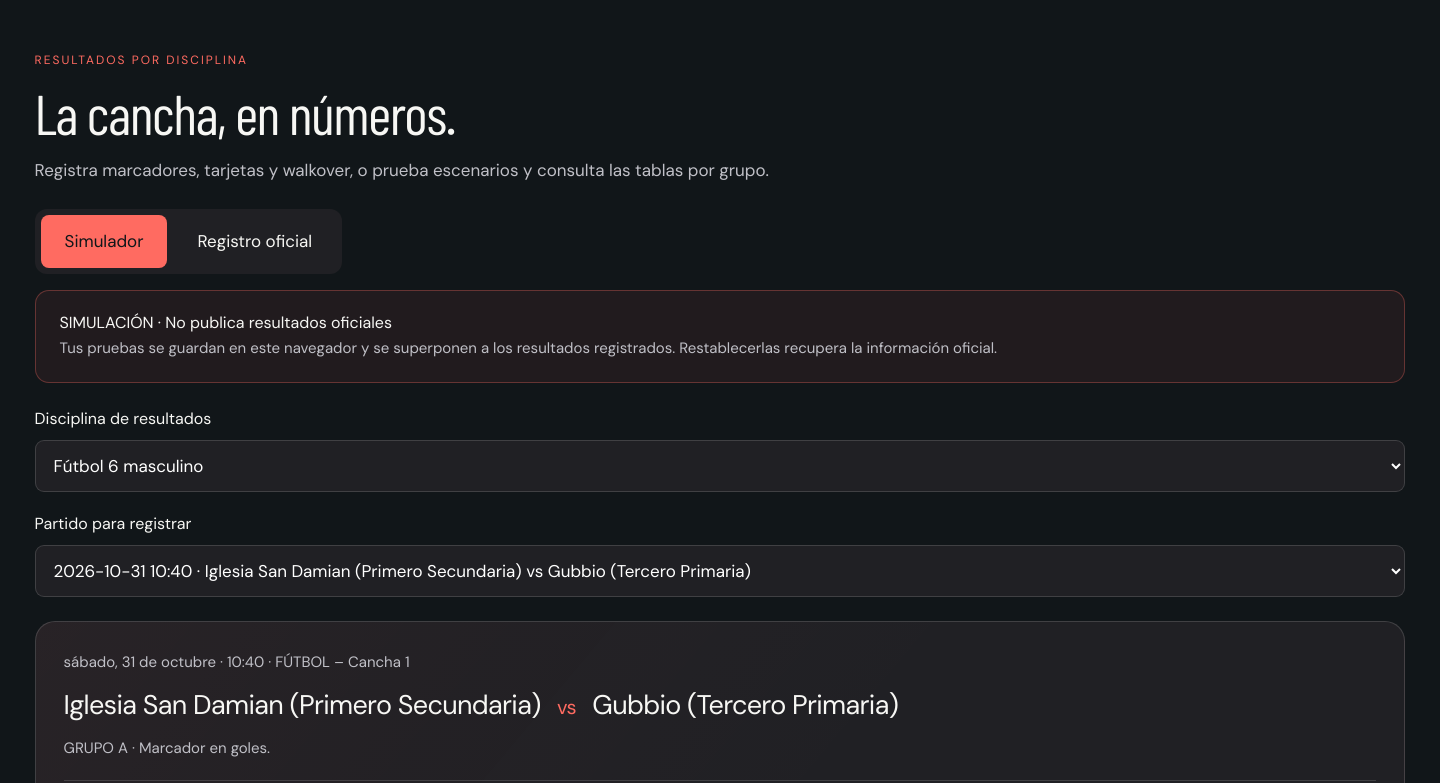
Scenario: un error de SQLite no se anuncia como resultado guardado
What coordinates should you click on to do the following:
click the button "Registro oficial"
I would click on:
 (255, 242)
Its box is top-left (174, 215), bottom-right (336, 268).
(page scrolled)
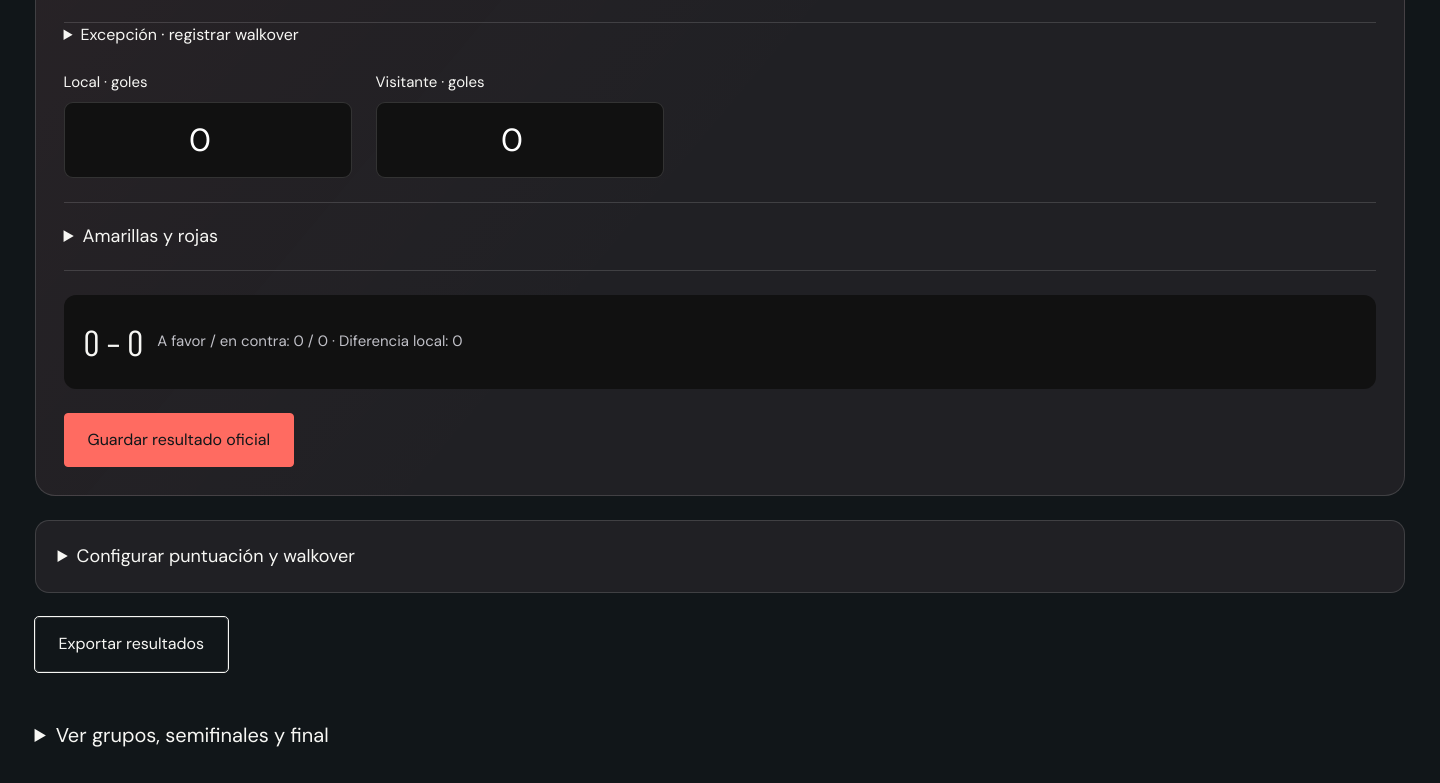
What coordinates should you click on to do the following:
click the button "Guardar resultado oficial"
I would click on:
 (179, 440)
Its box is top-left (64, 413), bottom-right (294, 468).
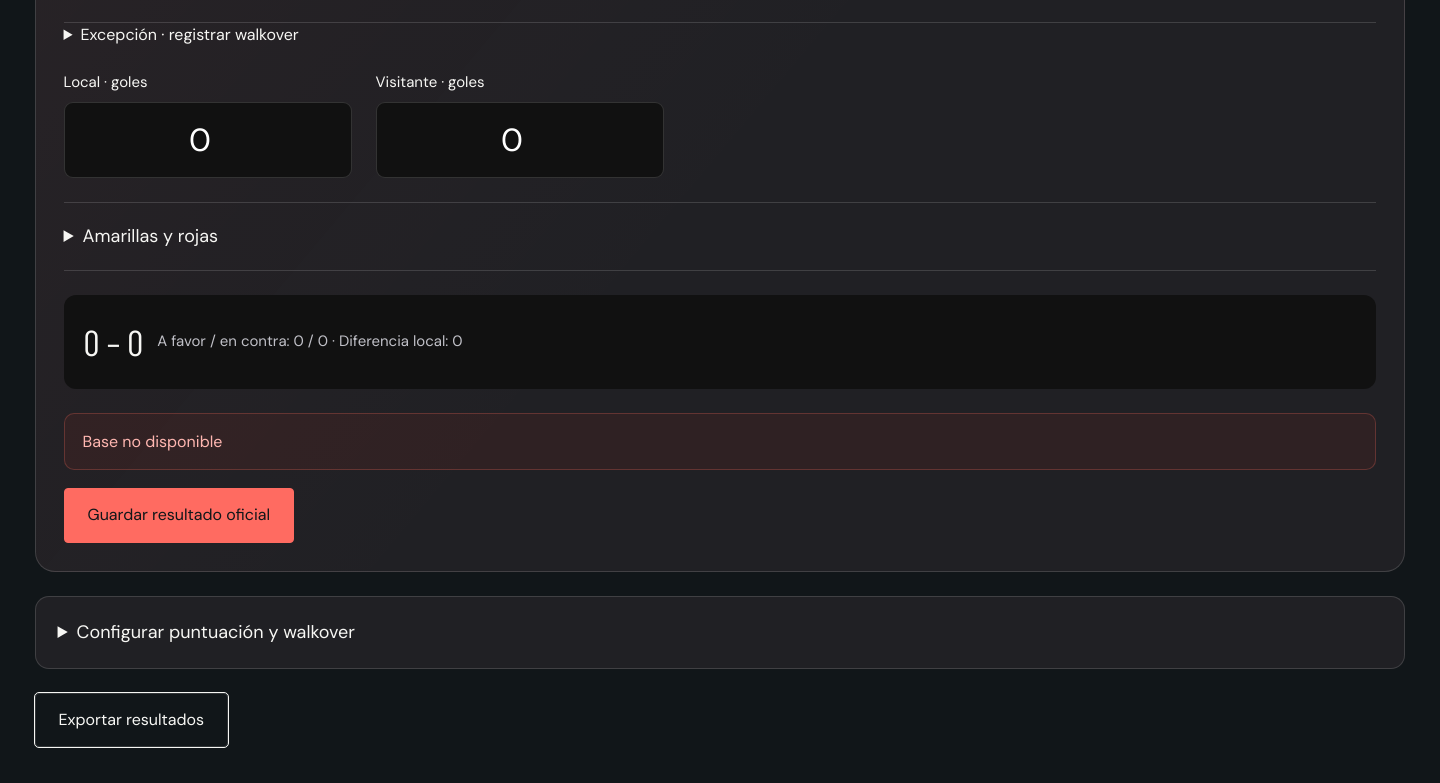
Expected: the message "Base no disponible" is shown, top-left (64, 413), bottom-right (1376, 470)
Expected: the message reads "Base no disponible", top-left (82, 431), bottom-right (222, 452)
